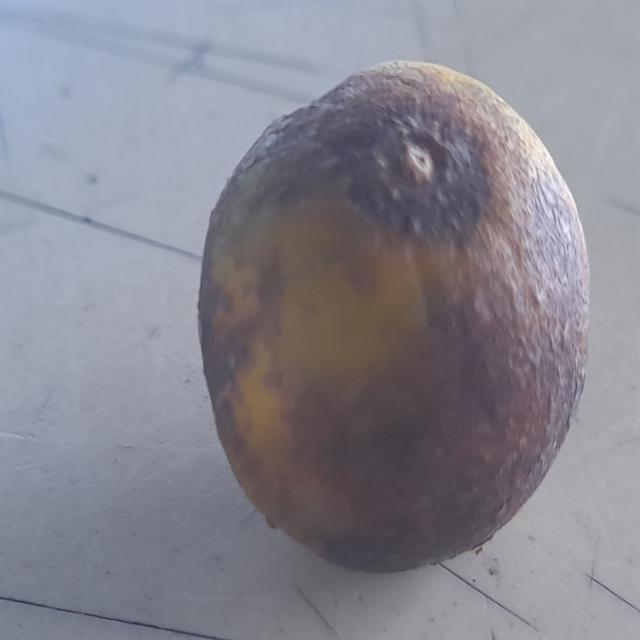black spot: (191, 68, 593, 567)
